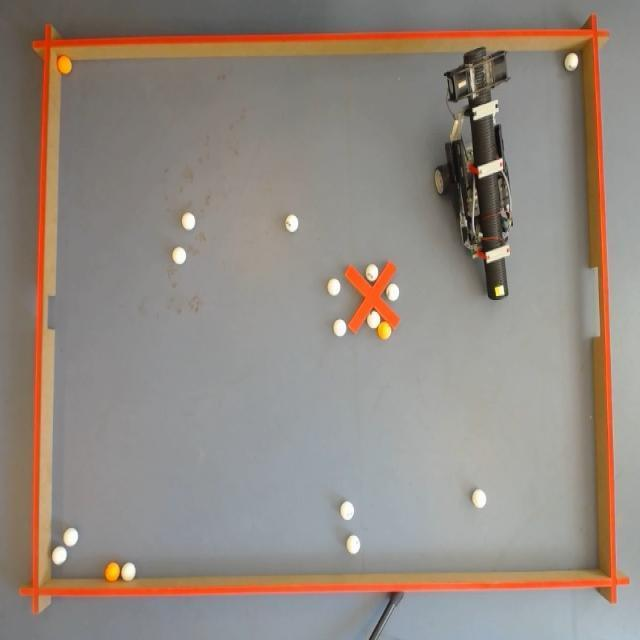orange: (56, 56, 72, 74), (108, 562, 119, 584), (380, 322, 390, 339)
robot: (438, 47, 514, 300)
white: (384, 285, 400, 304), (346, 535, 359, 557), (171, 246, 185, 266), (340, 501, 353, 522), (365, 262, 378, 282), (333, 317, 346, 337), (52, 546, 66, 564), (329, 276, 341, 296), (64, 528, 76, 548), (286, 217, 300, 234), (566, 53, 579, 71), (473, 490, 486, 508), (184, 212, 196, 231), (124, 563, 134, 582), (369, 308, 378, 328), (390, 283, 400, 300)
